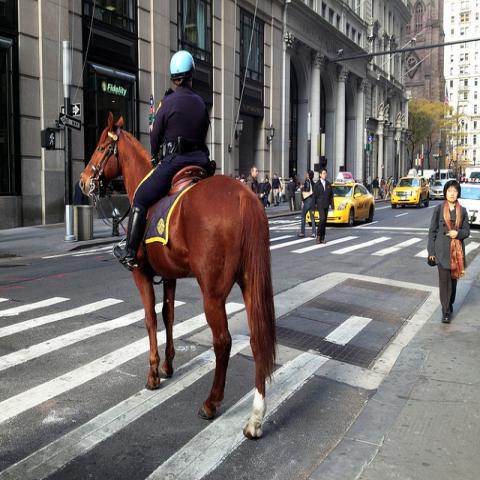car: (306, 172, 375, 227), (390, 176, 430, 210), (456, 182, 479, 228), (430, 179, 449, 200), (469, 172, 480, 178)
